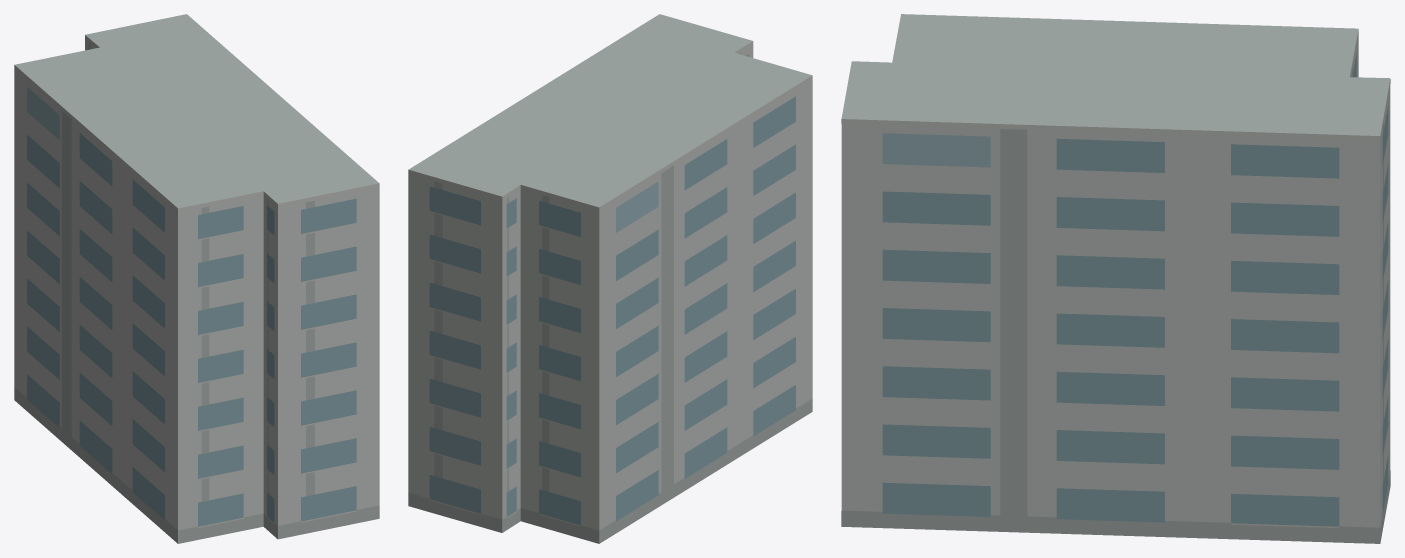
The model's file is survey-upis-32769006.glb.
The picture shows the model from 3 angles, left to right: view 1: azimuth 30°, elevation 25°; view 2: azimuth 150°, elevation 25°; view 3: azimuth 270°, elevation 25°; orthographic projection. The views are drawn at different scales.
Parts seen in each view (by area): view 1: survey-upis-32769006.tmp; view 2: survey-upis-32769006.tmp; view 3: survey-upis-32769006.tmp.
Part boxes in pixels (box(x1,y1,x2,y2)): survey-upis-32769006.tmp: box(14, 14, 379, 543); survey-upis-32769006.tmp: box(408, 14, 812, 543); survey-upis-32769006.tmp: box(841, 14, 1390, 543).
Size of the model in its own units: 12.79 by 19.9 by 24.29.
